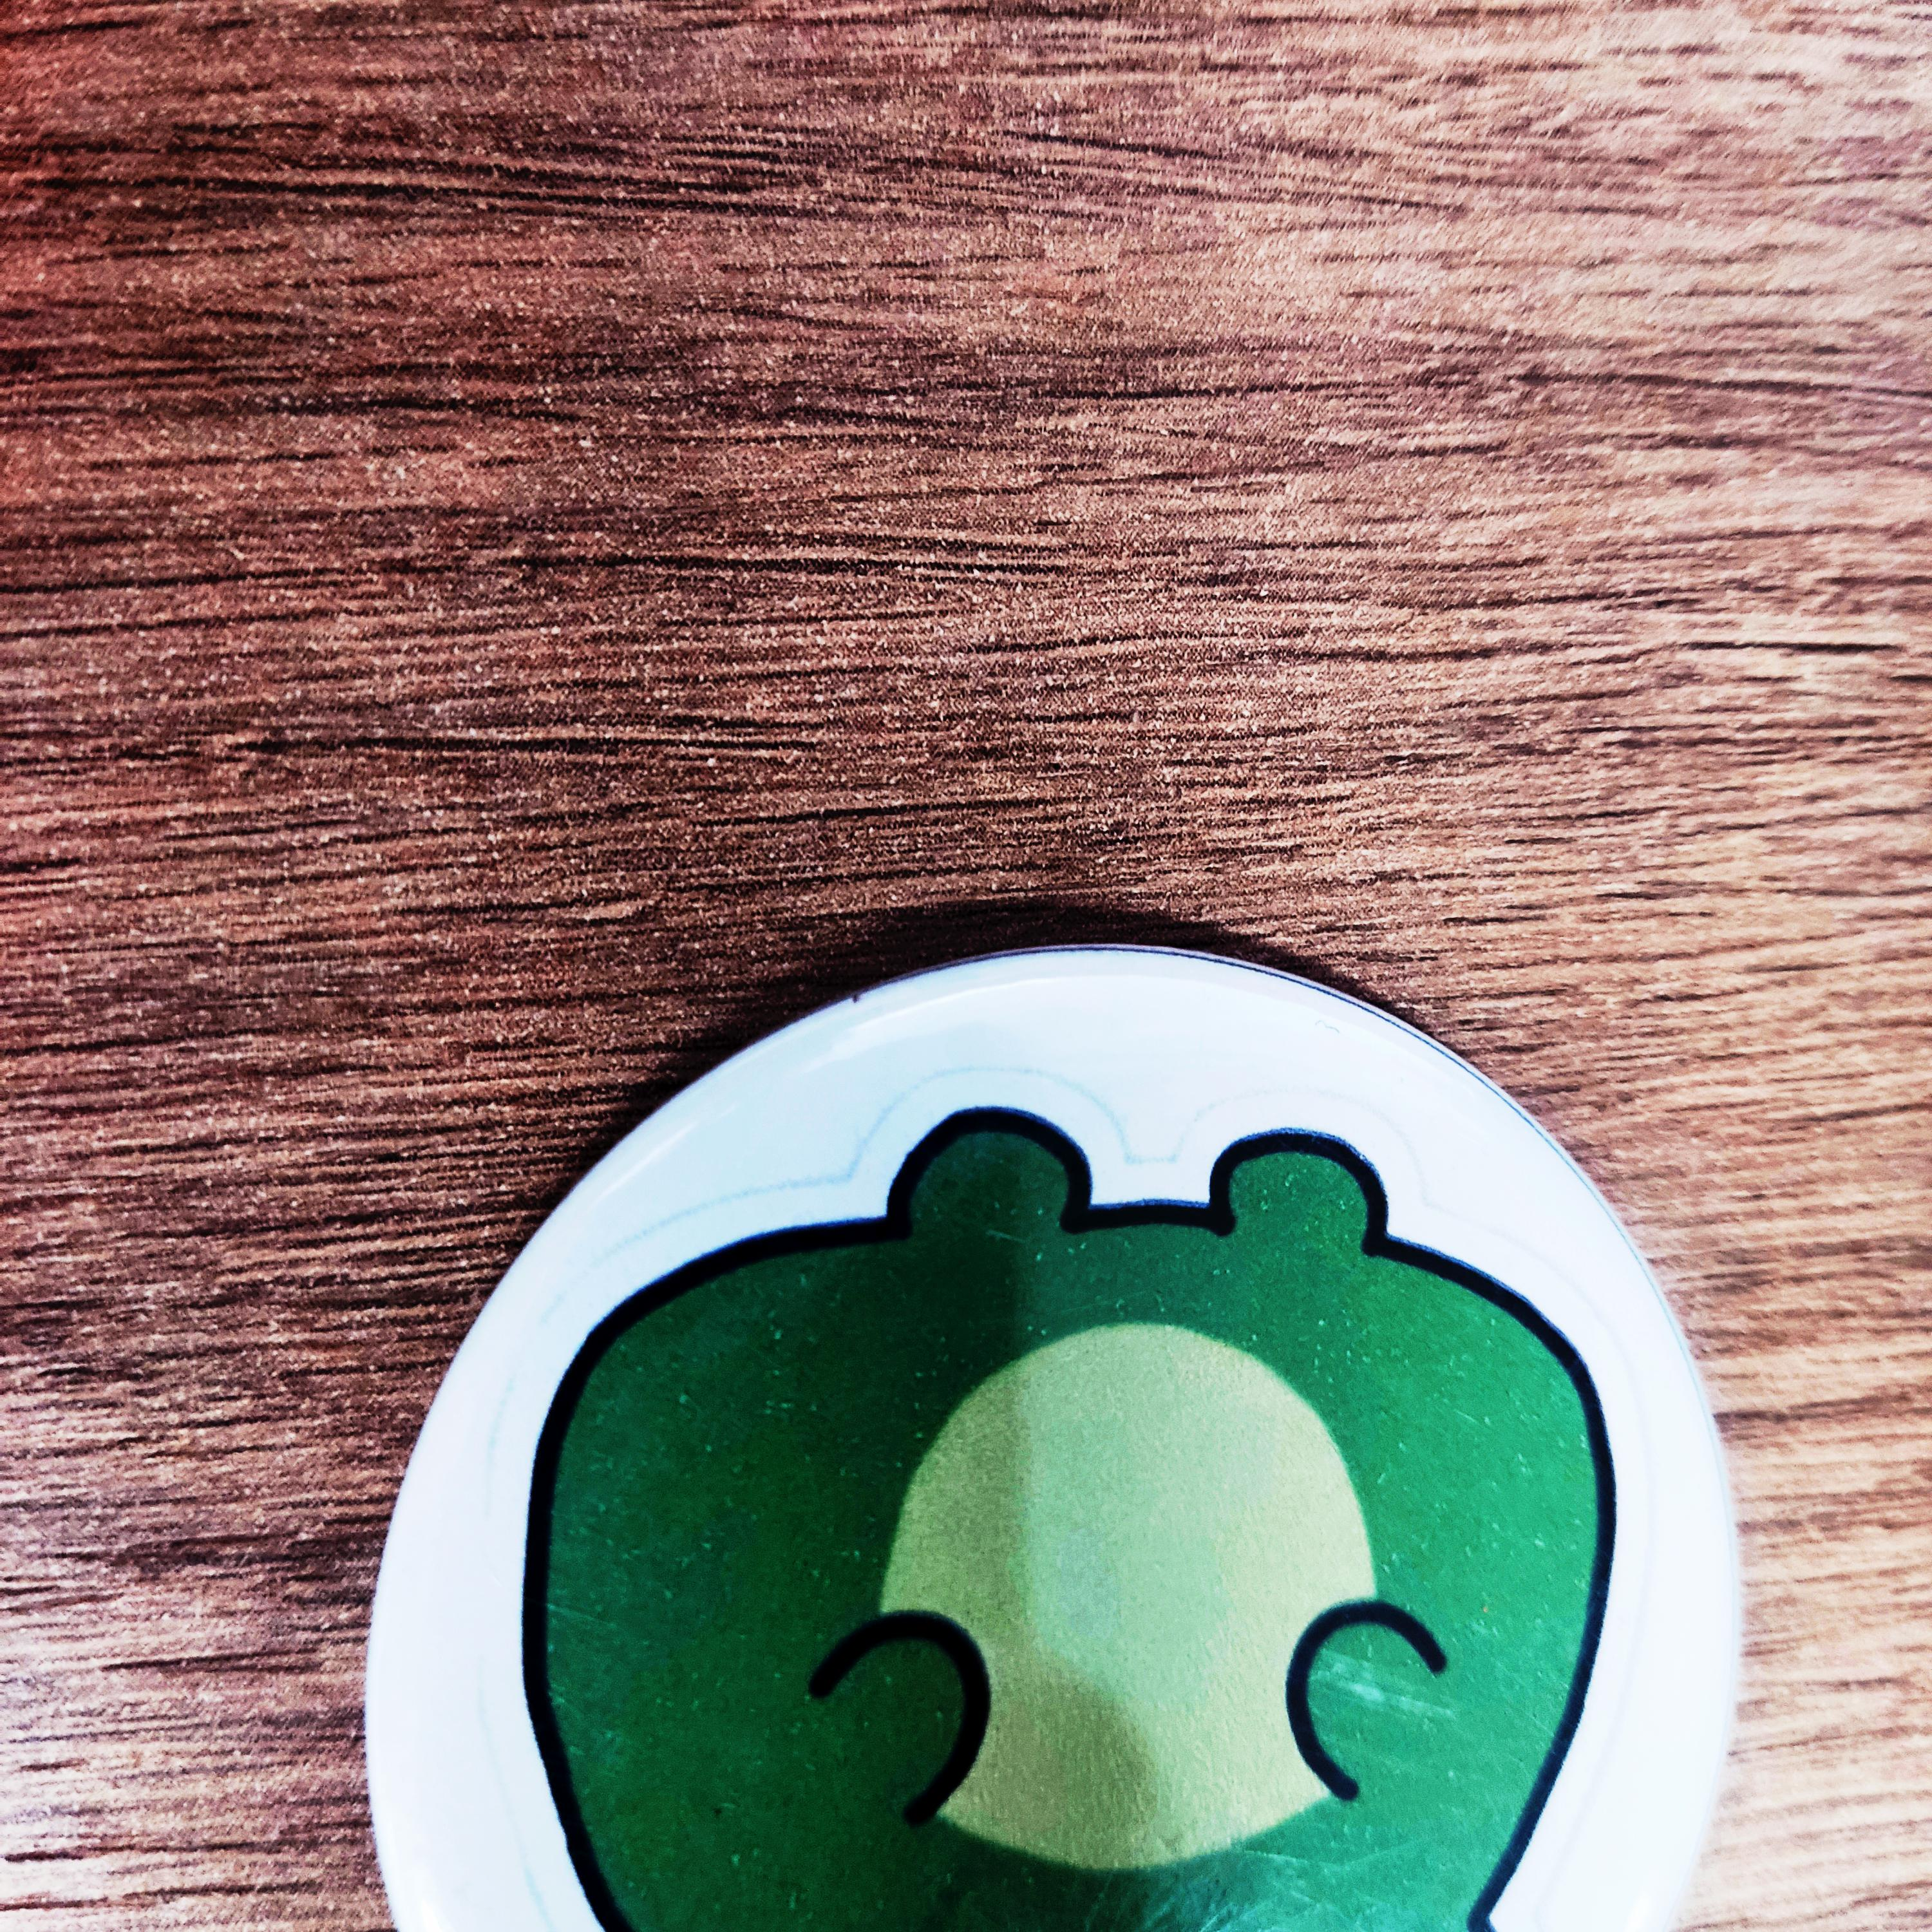pin: (349, 929, 1760, 1932)
